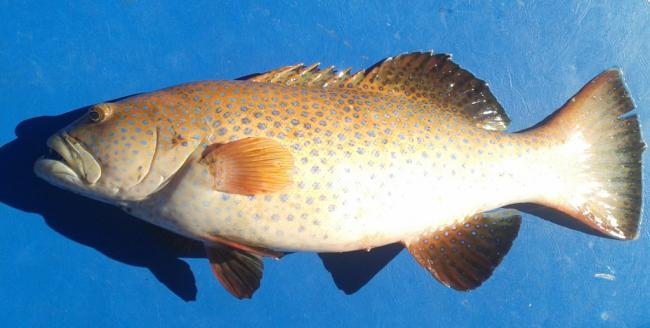fish: (33, 49, 647, 301)
